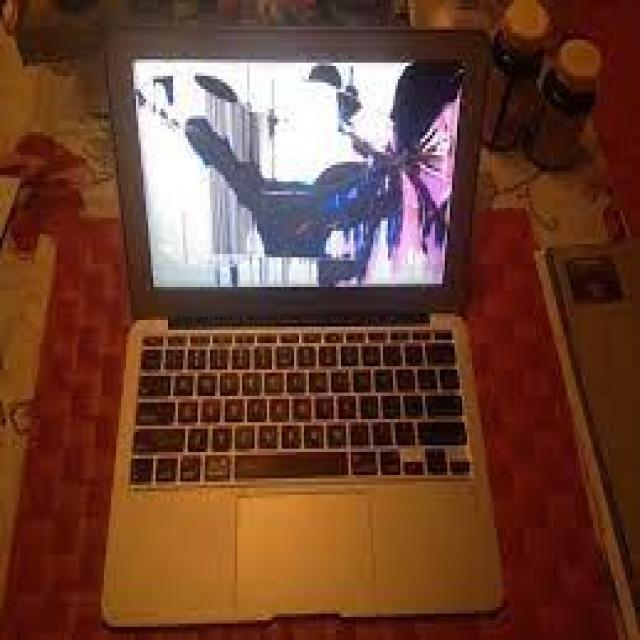Screen cracks: (126, 60, 465, 294)
